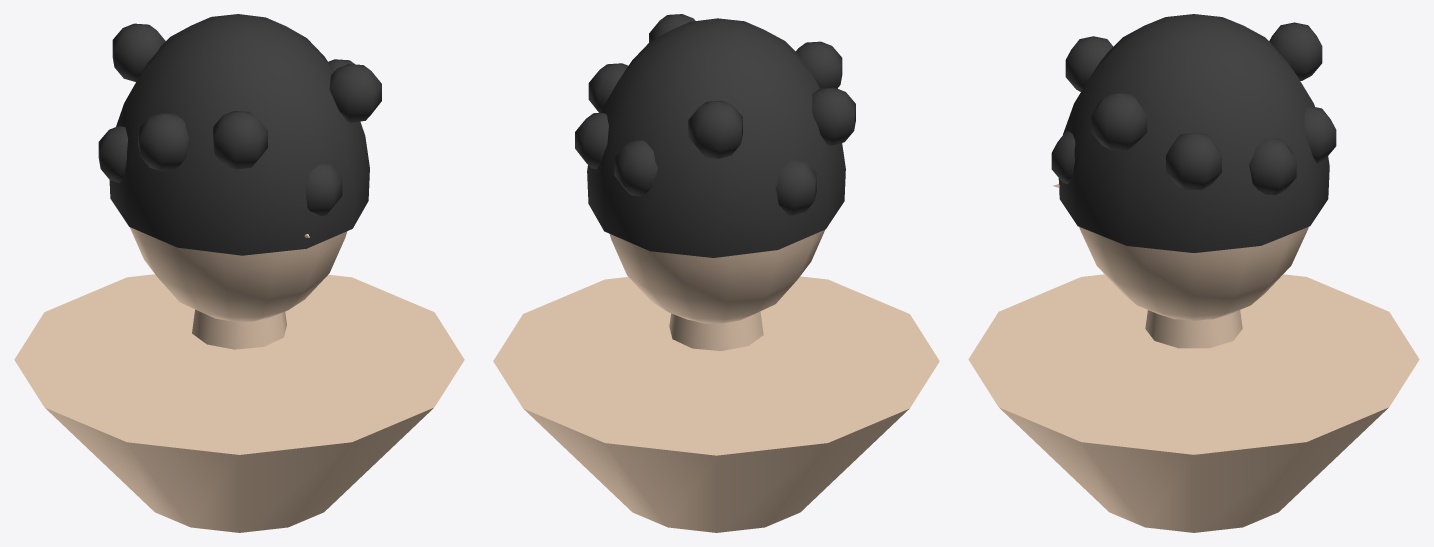
The model's file is raw_002.glb.
3 views of the same model, side by side, from view 1: azimuth 30°, elevation 25°; view 2: azimuth 150°, elevation 25°; view 3: azimuth 270°, elevation 25° (orthographic).
Size of the model in its own units: 1.95 by 2.23 by 1.95.
